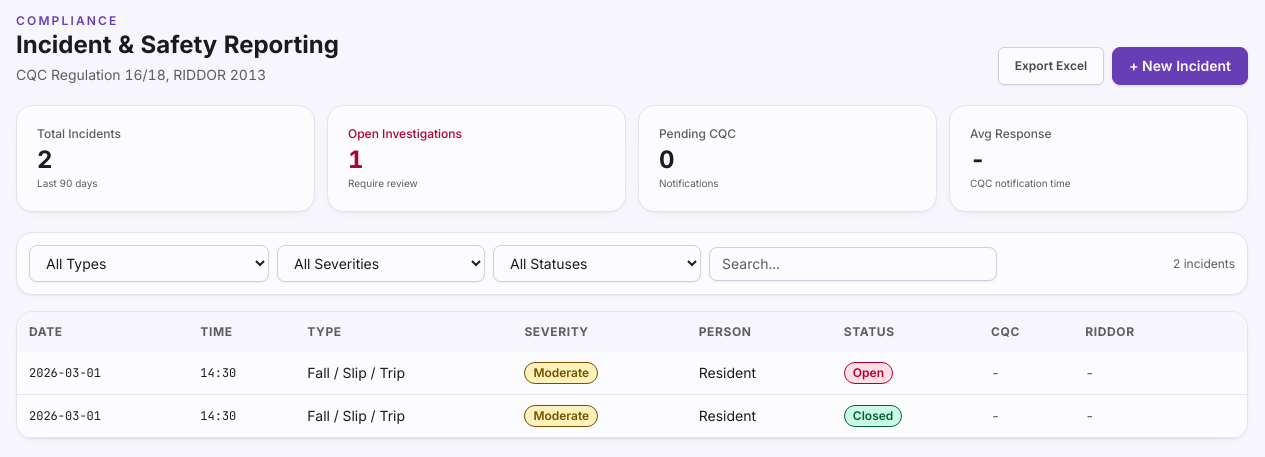
Scenario: IncidentTracker › status filter shows only matching investigation statuses
Expected: the text "2026-03-01" is shown 2 times, [17,352,188,394]; [17,394,188,438]
Select "Closed" in the dropdown showing "All Statuses" at (597, 264), box [493,245,701,282]
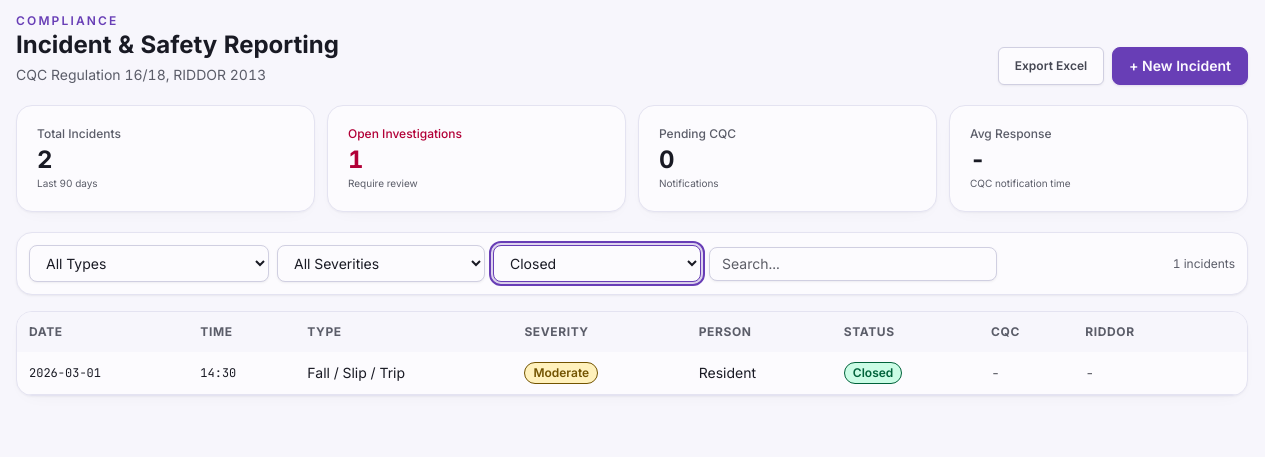
Result: the text "2026-03-01" is shown once at [17,352,188,394]
